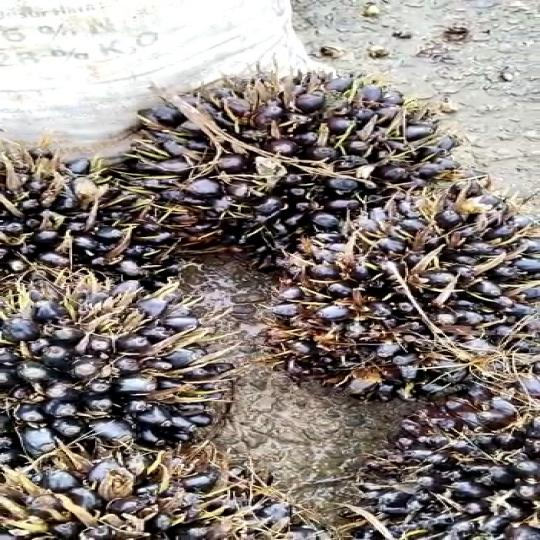mentah: (127, 51, 469, 257), (268, 178, 535, 419), (0, 265, 245, 459), (324, 370, 535, 540), (0, 440, 338, 538), (1, 138, 162, 298)
